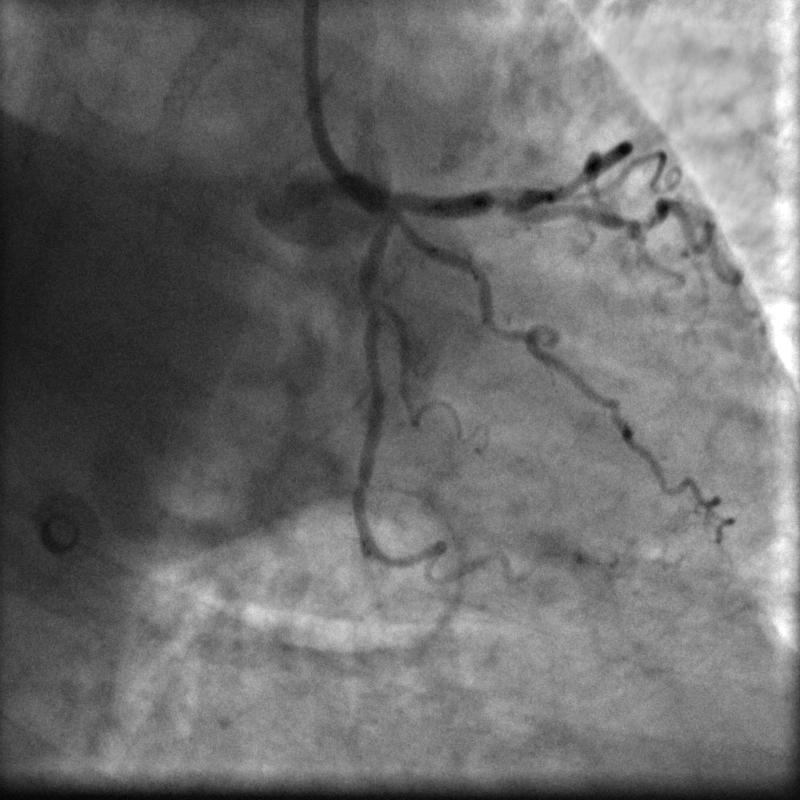Stenosis: (484, 184, 518, 218)
